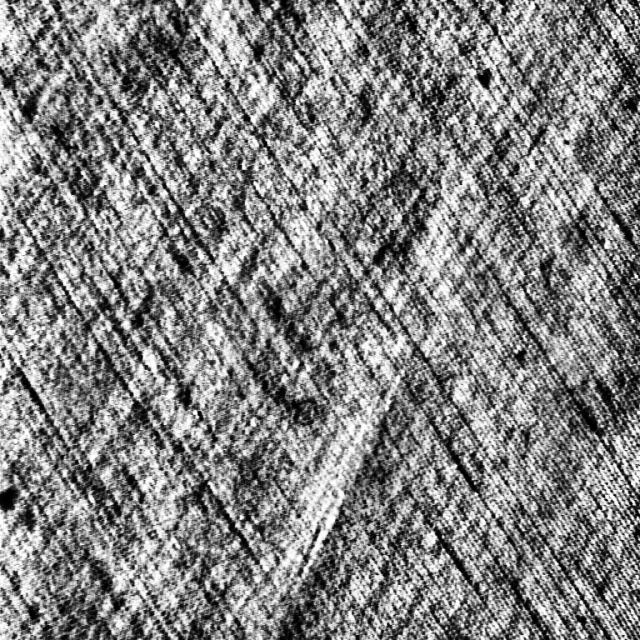Stitch: (289, 379, 397, 590)
